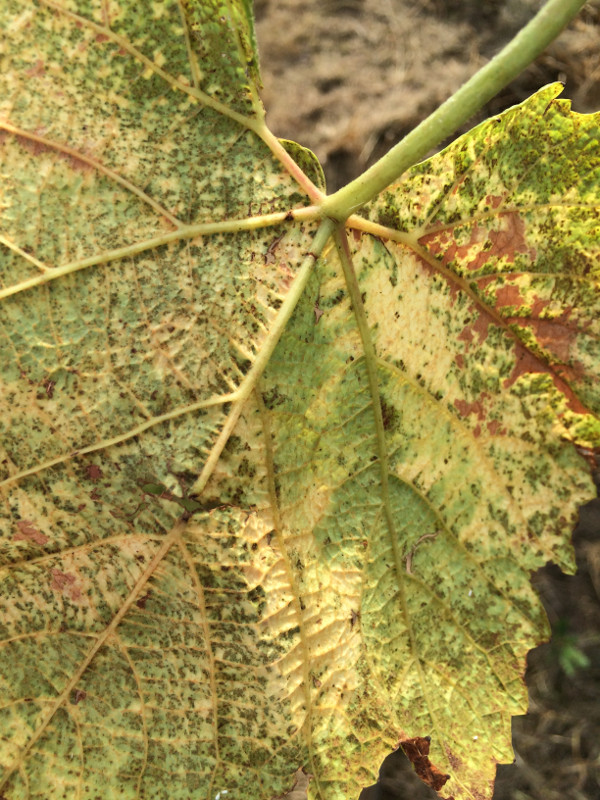downy: (2, 264, 351, 613), (2, 2, 254, 254), (358, 206, 600, 448), (3, 624, 178, 800), (375, 459, 547, 631), (197, 616, 368, 787), (374, 645, 502, 773), (508, 107, 598, 197)
